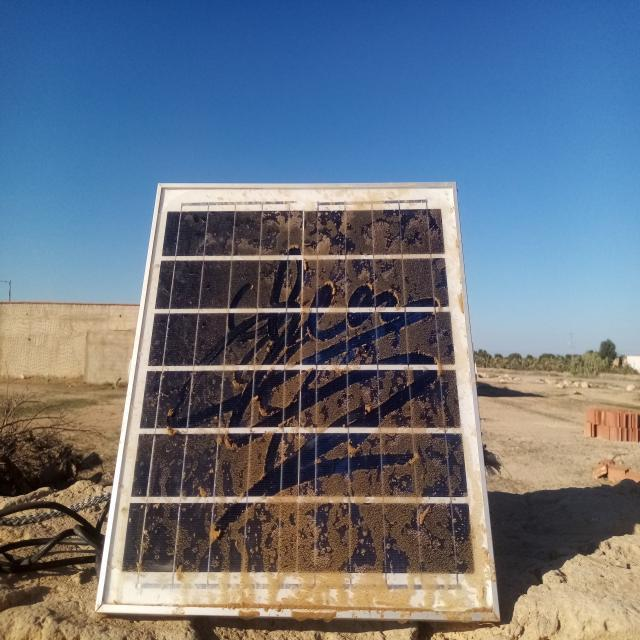faulty: (97, 185, 497, 617)
